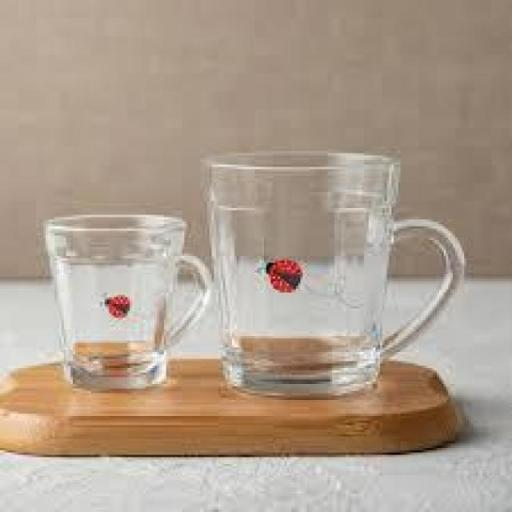glass: (206, 150, 458, 394), (32, 202, 213, 401)
